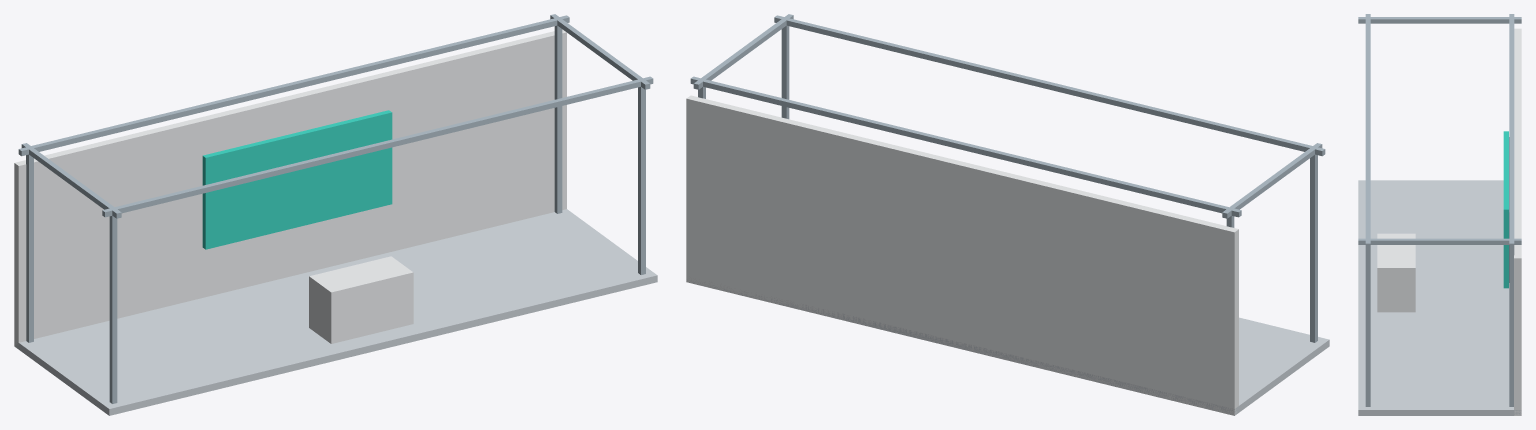
The picture shows the model from 3 angles, left to right: view 1: azimuth 30°, elevation 25°; view 2: azimuth 150°, elevation 25°; view 3: azimuth 270°, elevation 25°; orthographic projection. The views are drawn at different scales.
Parts seen in each view (by area): view 1: Exhibition Booth Concept; view 2: Exhibition Booth Concept; view 3: Exhibition Booth Concept.
Part boxes in pixels (left/top/right/bottom): Exhibition Booth Concept: left=14, top=14, right=657, bottom=415; Exhibition Booth Concept: left=686, top=14, right=1329, bottom=415; Exhibition Booth Concept: left=1358, top=14, right=1521, bottom=415.
Size of the model in its own units: 10 by 3.49 by 3.
